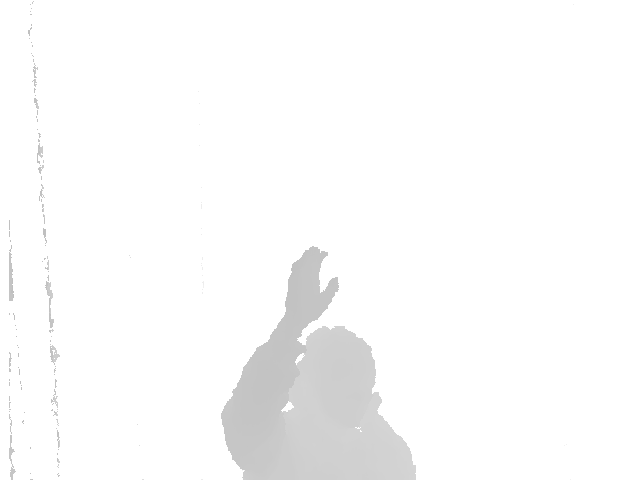hand: (280, 247, 340, 322)
head: (288, 323, 380, 425)
person: (219, 244, 424, 480)
